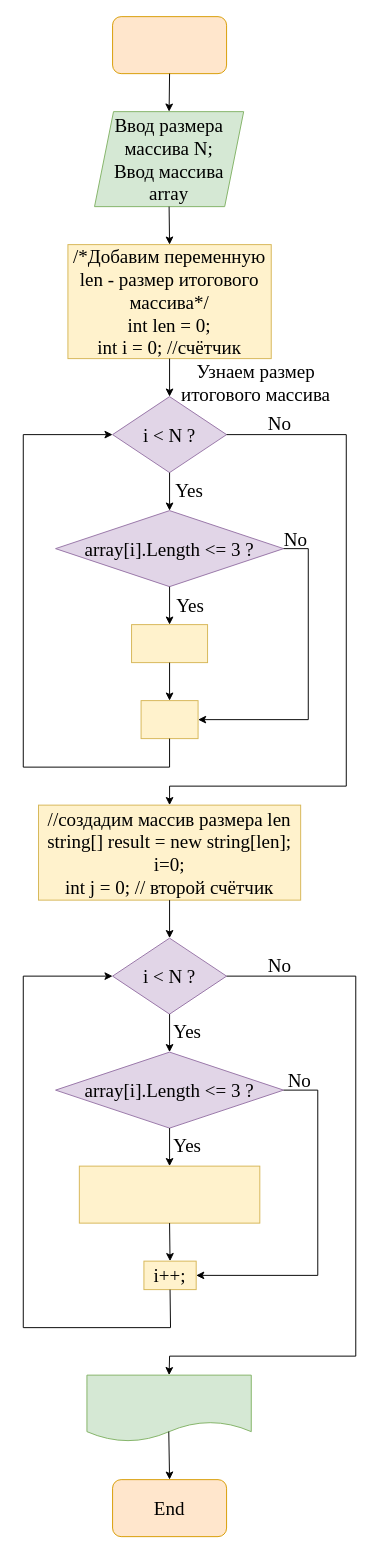
This 380x1553 diagram has some shape labels left out. The centre of each missing label's shape, as x and y in pixels:
"Begin" goes at (x=169, y=45).
"i ++;" goes at (x=169, y=719).
"len ++;" goes at (x=169, y=643).
"result[j] = array[i]; j++;" goes at (x=169, y=1194).
"Вывод массивов array и result" goes at (x=168, y=1408).
